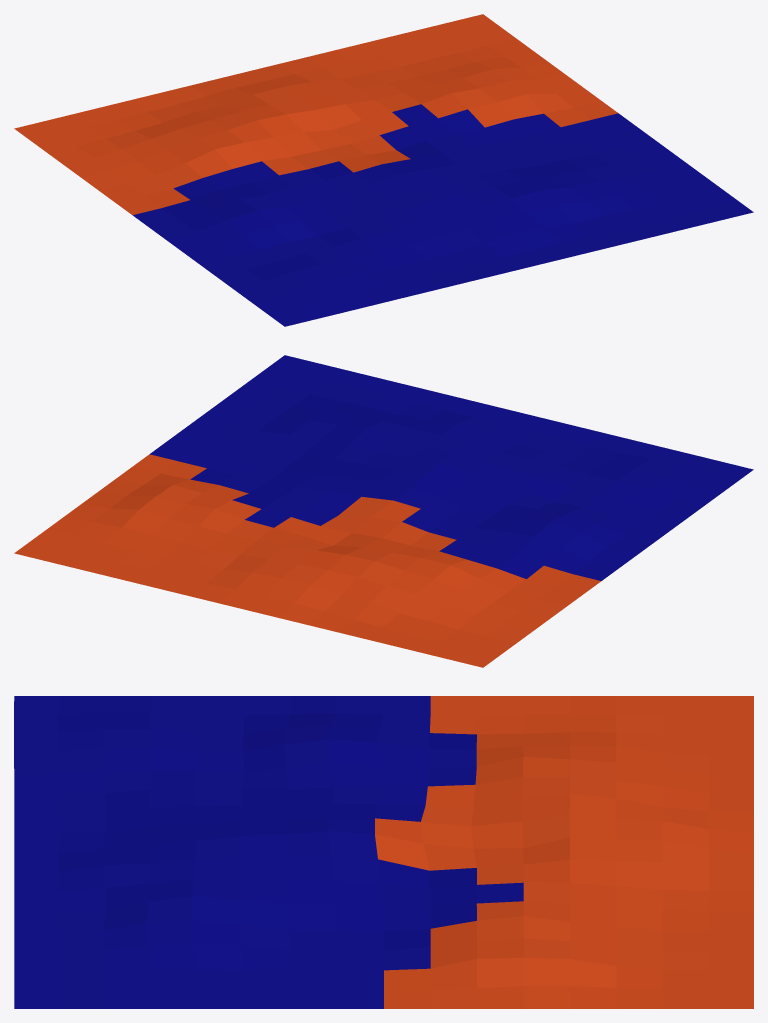
The model's file is Water-Sand2.FBX.
3 renders of one model, top to bottom at view 1: azimuth 30°, elevation 25°; view 2: azimuth 150°, elevation 25°; view 3: azimuth 270°, elevation 25°, orthographic. The views are drawn at different scales.
Parts seen in each view (by area): view 1: Terrain.001; view 2: Terrain.001; view 3: Terrain.001.
Part boxes in pixels (bbox=[...]): Terrain.001: bbox=[14, 14, 753, 326]; Terrain.001: bbox=[14, 355, 753, 667]; Terrain.001: bbox=[14, 696, 753, 1008].
Size of the model in its own units: 800 by 800 by 23.83.
